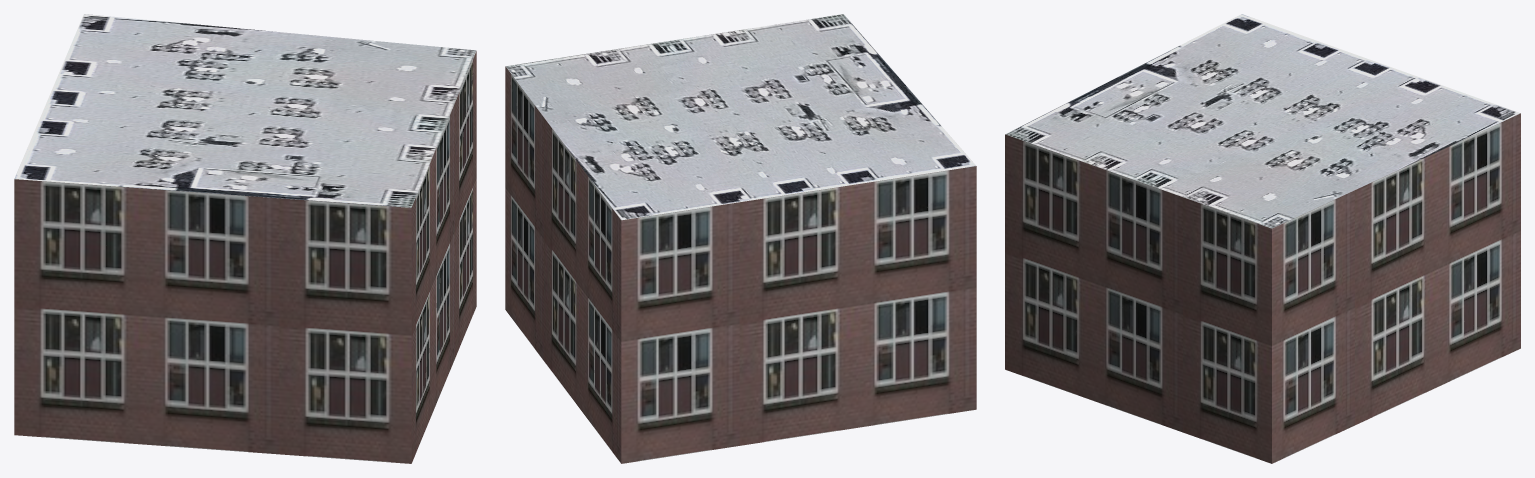
Rendered from ResTex__3513.fbx.
The picture shows the model from 3 angles, left to right: view 1: azimuth 30°, elevation 25°; view 2: azimuth 150°, elevation 25°; view 3: azimuth 270°, elevation 25°; orthographic projection. The views are drawn at different scales.
Parts seen in each view (by area): view 1: CityEngineMaterial_12_m, CityEngineMaterial_8_m; view 2: CityEngineMaterial_12_m, CityEngineMaterial_8_m; view 3: CityEngineMaterial_12_m, CityEngineMaterial_8_m.
Boxes of the visible parts, left/top/right/bottom form: CityEngineMaterial_12_m: left=14, top=51, right=476, bottom=463; CityEngineMaterial_8_m: left=14, top=14, right=476, bottom=207; CityEngineMaterial_12_m: left=505, top=66, right=976, bottom=463; CityEngineMaterial_8_m: left=506, top=14, right=975, bottom=220; CityEngineMaterial_12_m: left=1005, top=113, right=1520, bottom=463; CityEngineMaterial_8_m: left=1005, top=14, right=1520, bottom=228.
Bounding box in the file's own units: 11.74 × 6 × 11.92.
Materials: 2 (2 with a texture image).
